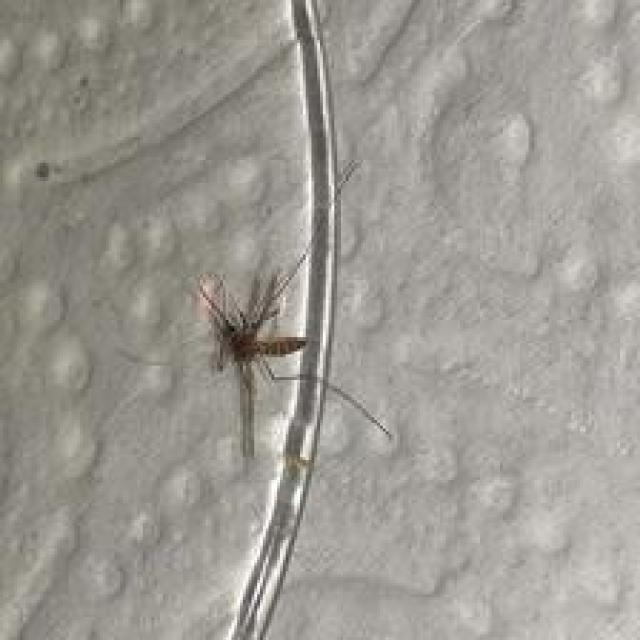Culex: (196, 250, 310, 459)
